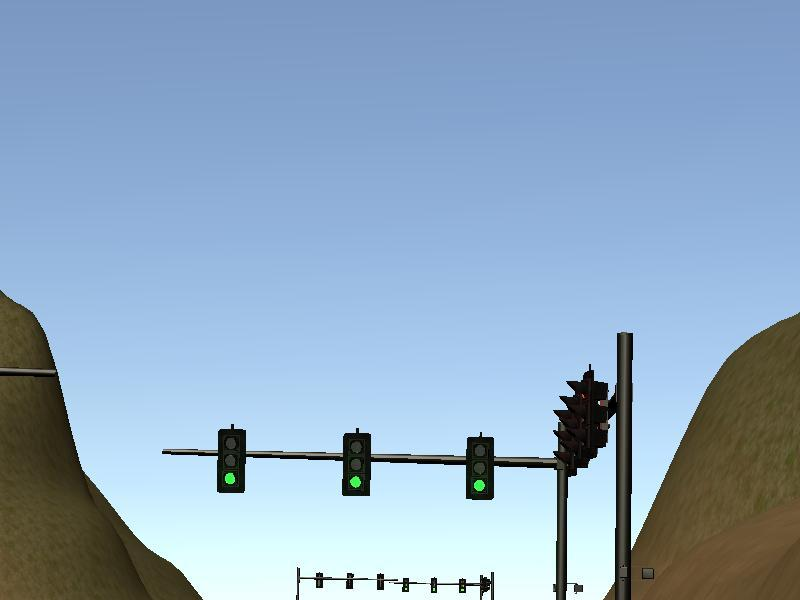Green: (216, 429, 246, 493), (342, 433, 372, 497), (464, 437, 494, 501)
